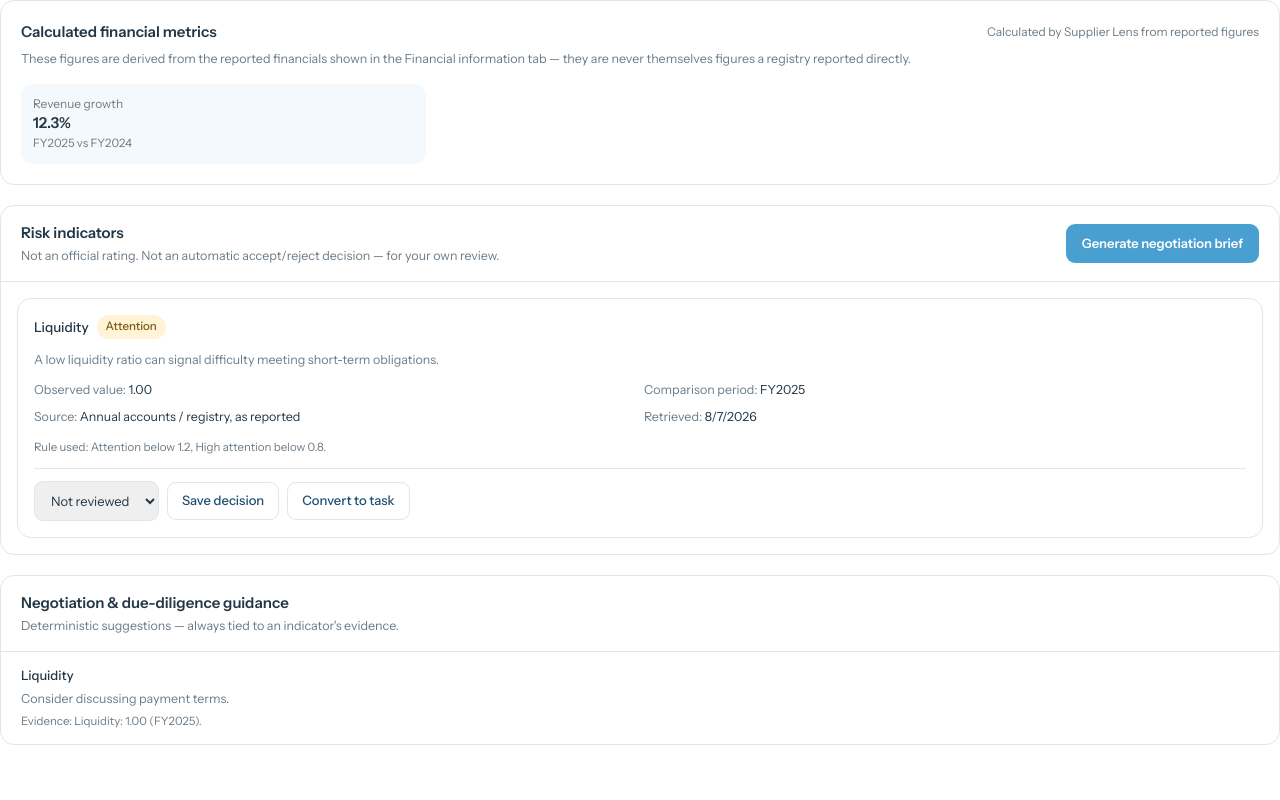
RiskAssessment tab › generating the negotiation brief fetches and displays the deterministic document
The width and height of the screenshot is (1280, 800).
Check: the text "A low liquidity ratio can signal difficulty meeting short-term obligations." is shown, box [34, 352, 439, 366]
Click the button "Generate negotiation brief" at [1162, 244], box [1066, 224, 1259, 263]
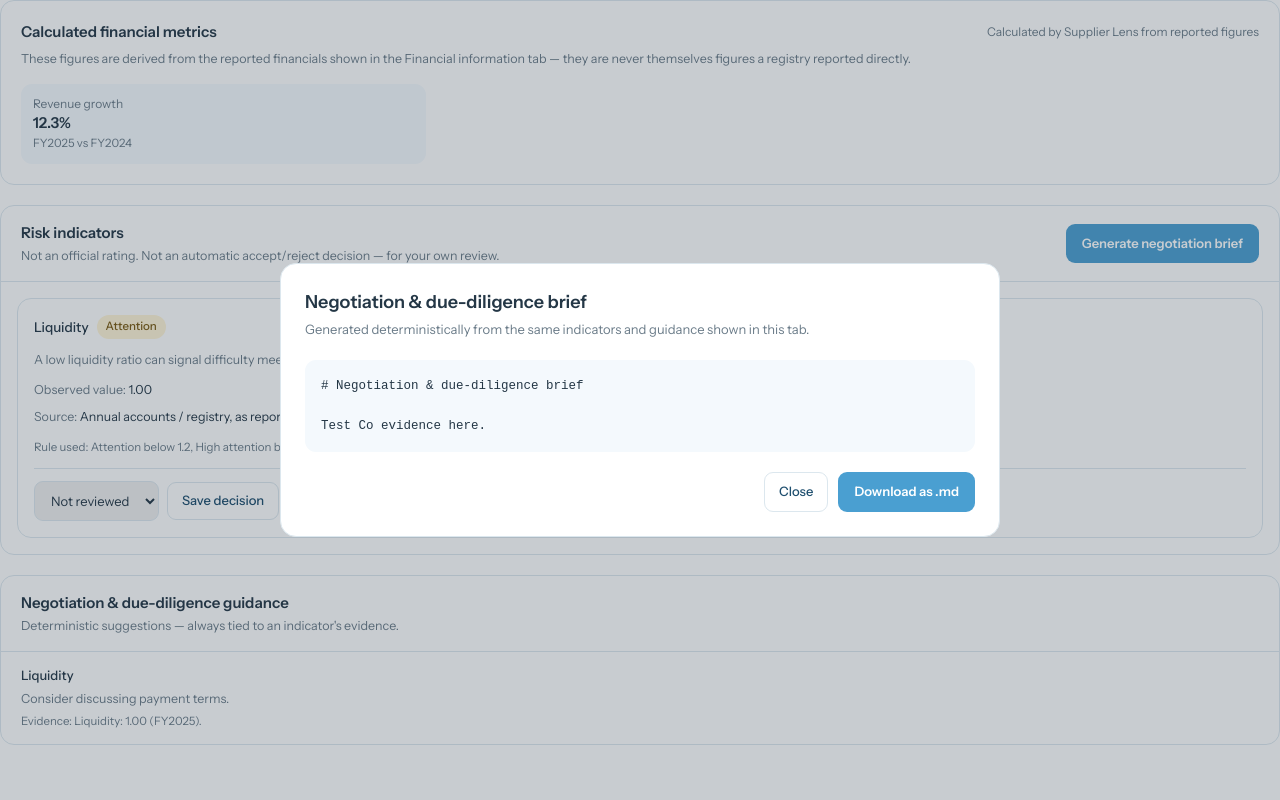
Check: the text "# Negotiation & due-diligence brief Test Co evidence here." is shown, box [321, 378, 584, 433]
